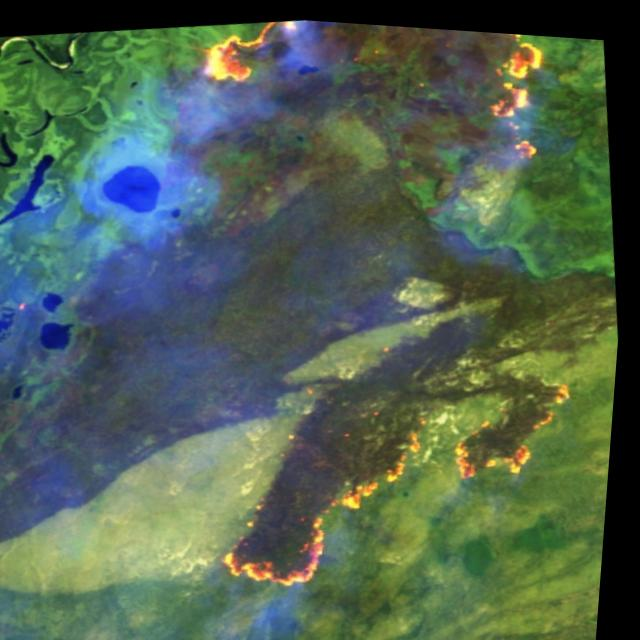fire: (188, 341, 611, 611), (191, 11, 567, 199)
